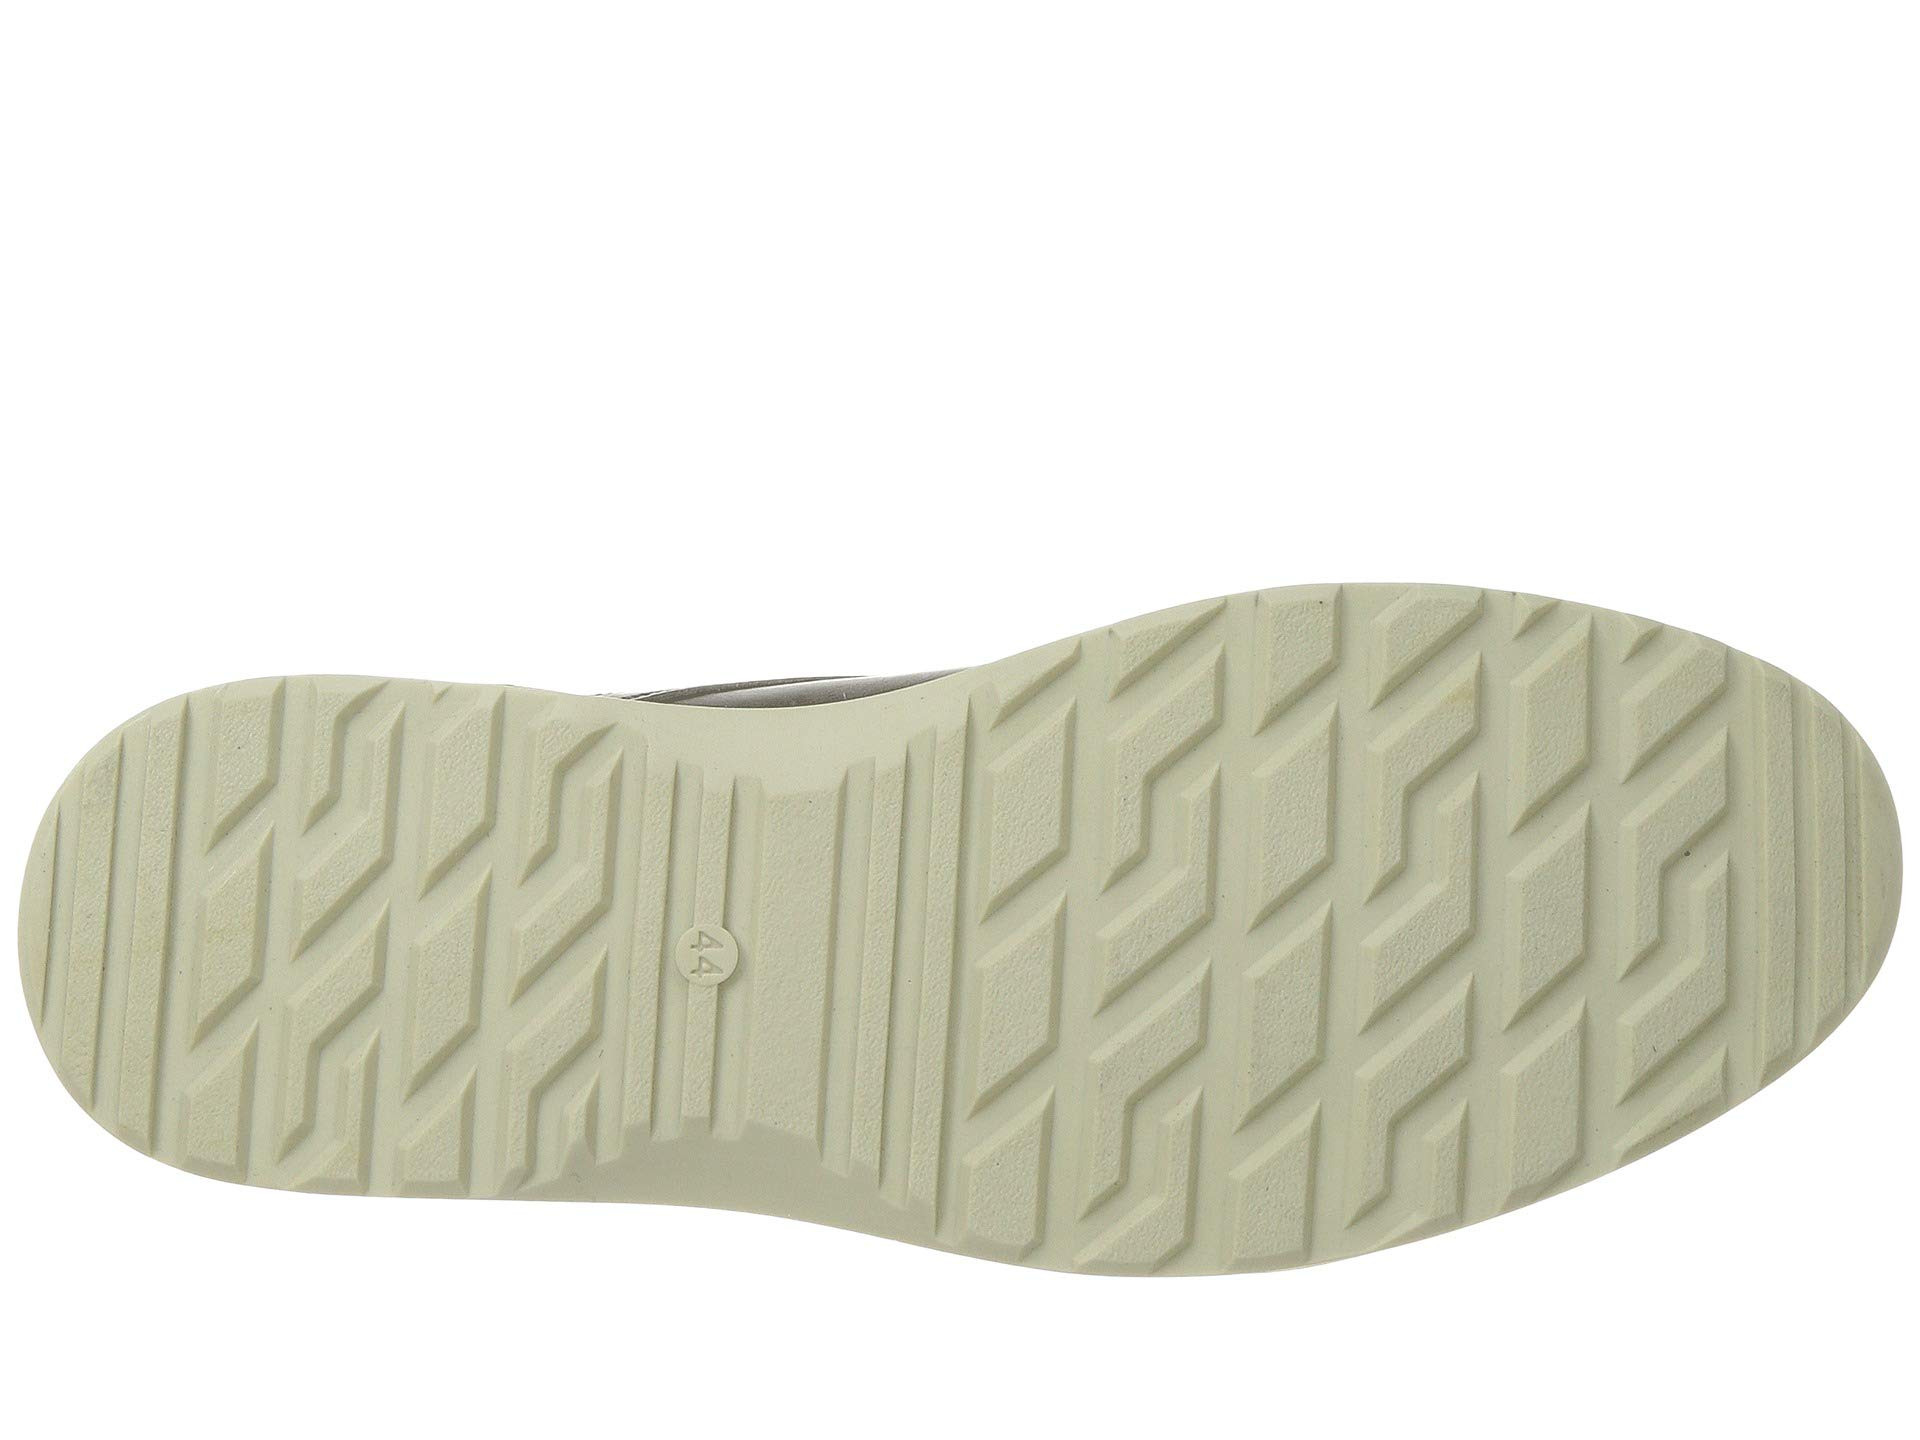chevron: (1465, 635, 1784, 1074), (1064, 682, 1404, 1035)
circle: (609, 888, 844, 1060)
line: (609, 888, 844, 1060)
quad: (1465, 635, 1784, 1074), (1064, 682, 1404, 1035), (139, 809, 325, 1074)
text: (609, 888, 844, 1060)
